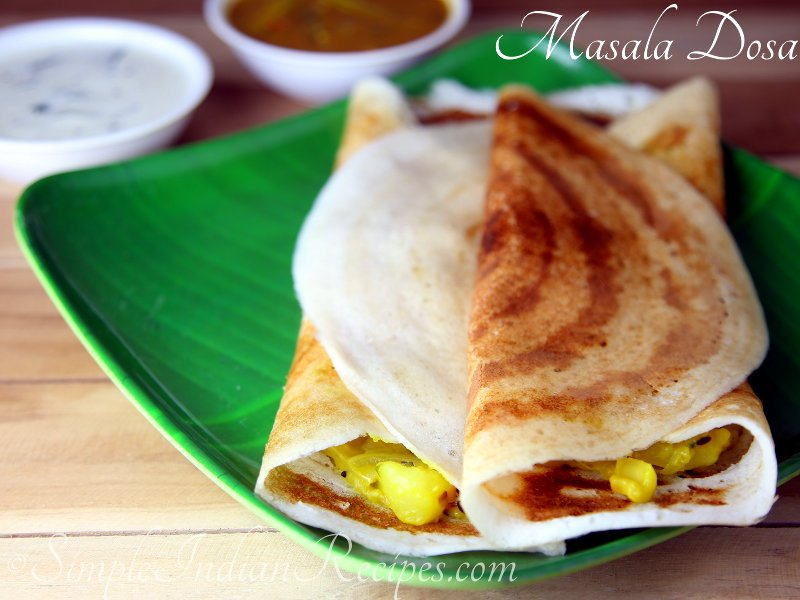dosa: (255, 61, 777, 583)
